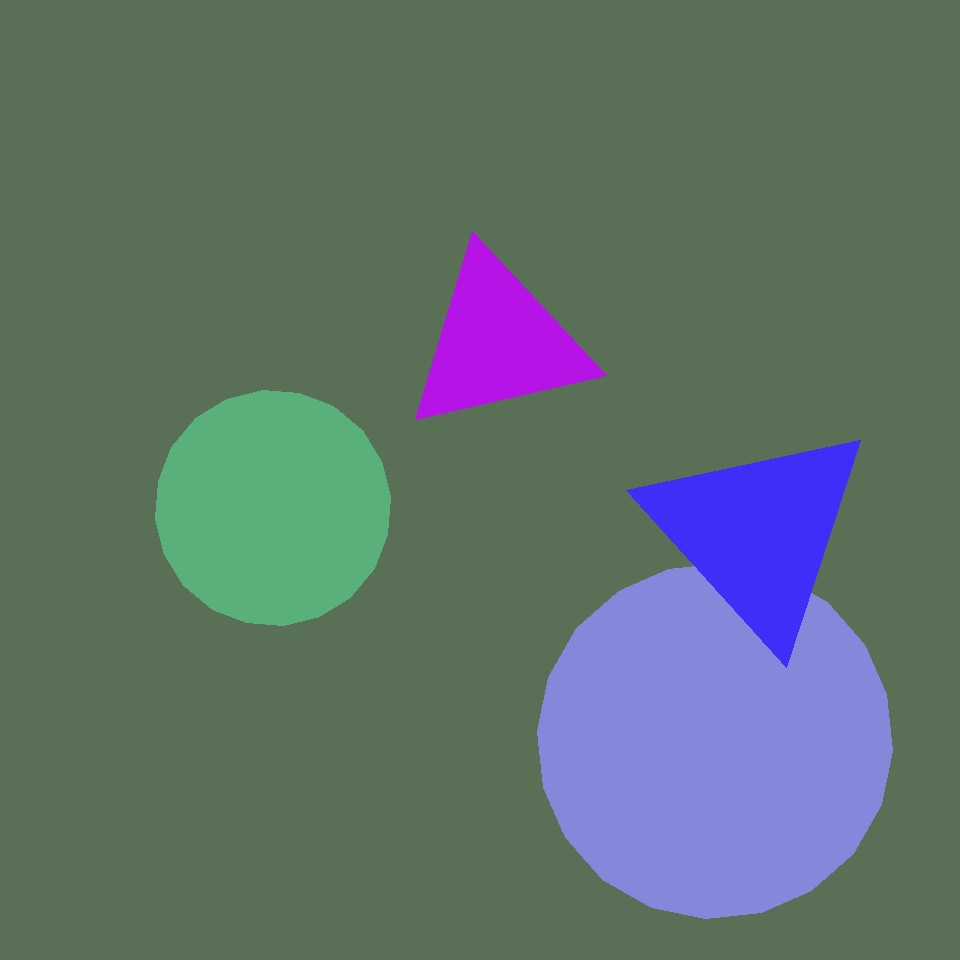circle: (327, 330, 579, 614), (514, 642, 780, 890), (641, 420, 875, 646), (403, 248, 594, 436)
square: (646, 128, 894, 375)
triangle: (537, 564, 892, 918), (156, 390, 390, 626), (700, 708, 890, 898)
